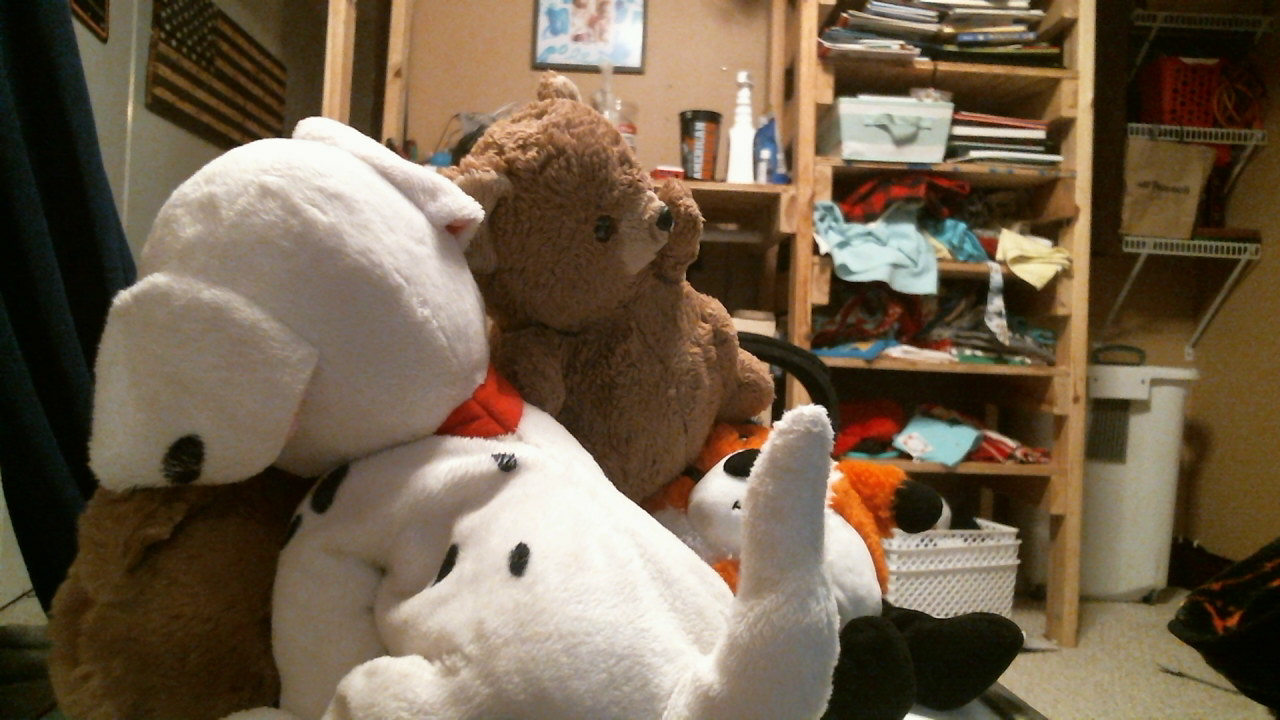Little_Mister_Bear: (566, 190, 691, 268)
